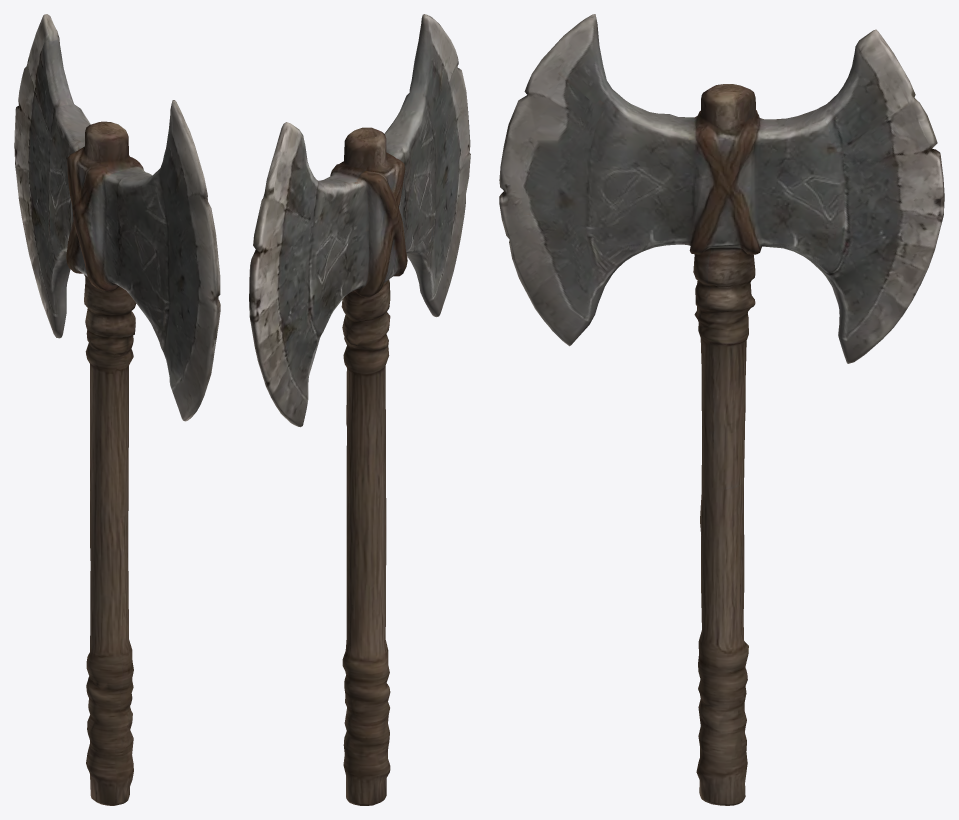
The model's file is berserker-axe.glb.
3 views of the same model, side by side, from view 1: azimuth 30°, elevation 25°; view 2: azimuth 150°, elevation 25°; view 3: azimuth 270°, elevation 25° (orthographic). The views are drawn at different scales.
Parts seen in each view (by area): view 1: model; view 2: model; view 3: model.
Boxes of the visible parts, <box> form: model: <box>14,14,220,805</box>; model: <box>249,14,470,805</box>; model: <box>499,14,944,805</box>.
Bounding box in the file's own units: 0.0889 × 1 × 0.5137.
1 material, 1 textured.
